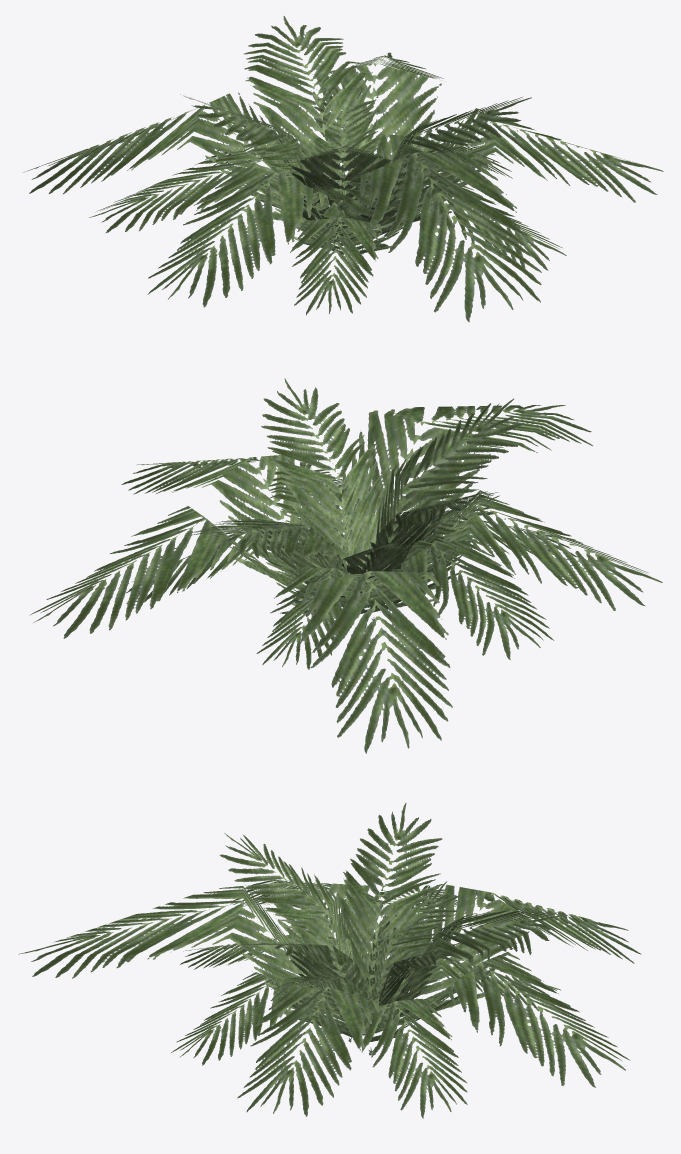
File: mbushtro_1.dae
3 renders of one model, top to bottom at view 1: azimuth 30°, elevation 25°; view 2: azimuth 150°, elevation 25°; view 3: azimuth 270°, elevation 25°, orthographic. The views are drawn at different scales.
Parts seen in each view (by area): view 1: mbushtro_1; view 2: mbushtro_1; view 3: mbushtro_1.
Part boxes in pixels (x1,y1,x2,y2): mbushtro_1: (23, 16, 663, 322); mbushtro_1: (29, 378, 662, 753); mbushtro_1: (18, 803, 641, 1118).
Size of the model in its own units: 6.55 by 7.43 by 2.48.
Materials: 1 (1 with a texture image).
